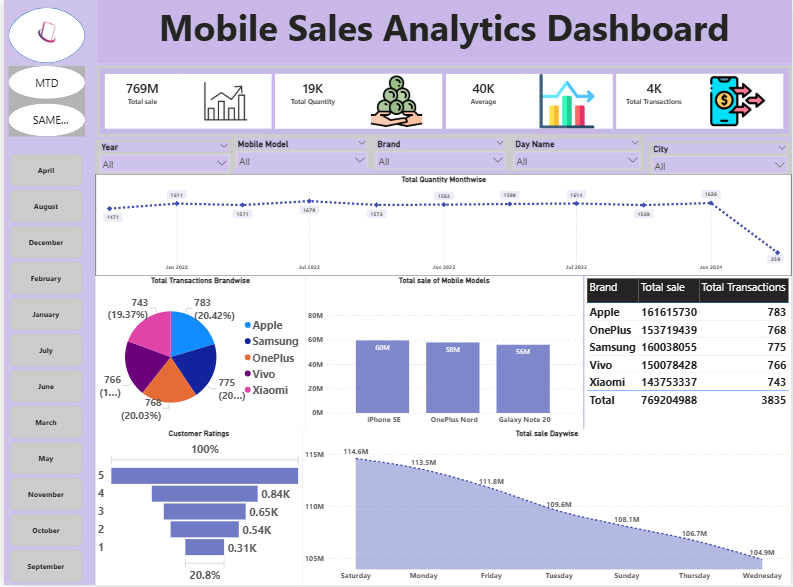

This screenshot's page, from the dashboard's own definition file:
{"tool":"powerbi","page":{"name":"Page 1","canvas":[1750,1100],"ordinal":0},"visuals":[{"type":"shape","box":[10,16.7,170,123.3],"z":0},{"type":"advancedSlicerVisual","fields":{"Values":["Custom_calender.Month Name"]},"box":[6.7,336.7,173.3,763.3],"z":1000},{"type":"cardVisual","fields":{"Data":["sales data.Total sale","sales data.Total Quantity","sales data.Average","sales data.Total Transactions"]},"box":[206.7,0,1543.3,110],"z":2000},{"type":"lineChart","title":"Total Quantity Monthwise","fields":{"Category":["Custom_calender.Dates.Variation.Date Hierarchy.Year","Custom_calender.Dates.Variation.Date Hierarchy.Quarter","Custom_calender.Dates.Variation.Date Hierarchy.Month","Custom_calender.Dates.Variation.Date Hierarchy.Day"],"Y":["sales data.Total Quantity"]},"box":[203.3,190,1546.7,226.7],"z":3000},{"type":"pieChart","title":"Total Transactions Brandwise","fields":{"Y":["sales data.Total Transactions"],"Category":["sales data.Brand"]},"box":[206.7,413.3,466.7,340],"z":4000},{"type":"columnChart","title":"Total sale of Mobile Models","fields":{"Y":["sales data.Total sale"],"Category":["sales data.Mobile Model"]},"box":[673.3,416.7,616.7,340],"z":5000},{"type":"tableEx","fields":{"Values":["sales data.Brand","sales data.Total sale","sales data.Total Transactions"]},"box":[1290,413.3,460,340],"z":6000},{"type":"areaChart","title":"Total sale Daywise","fields":{"Y":["sales data.Total sale"],"Category":["sales data.Day Name"]},"box":[670,753.3,1080,346.7],"z":7000},{"type":"funnel","title":"Customer Ratings","fields":{"Category":["sales data.Customer Ratings"],"Y":["CountNonNull(sales data.Customer Ratings)"]},"box":[213.3,753.3,460,346.7],"z":8000},{"type":"slicer","fields":{"Values":["sales data.Mobile Model"]},"box":[516.7,113.3,310,70],"z":9000},{"type":"slicer","fields":{"Values":["sales data.Brand"]},"box":[826.7,103.3,306.7,73.3],"z":10000},{"type":"slicer","fields":{"Values":["sales data.Day Name"]},"box":[1130,106.7,300,76.7],"z":11000},{"type":"slicer","fields":{"Values":["sales data.City"]},"box":[1430,103.3,320,73.3],"z":12000},{"type":"image","box":[33.3,30,123.3,83.3],"z":13000},{"type":"slicer","fields":{"Values":["Custom_calender.Year"]},"box":[206.7,113.3,306.7,76.7],"z":14000},{"type":"pageNavigator","box":[10,146.7,170,156.7],"z":15000}]}

Visuals, with their boxes on the page's 1750x1100 design canvas (x1, y1, x2, y2). These are canvas units, not pixel positions in the 793x587 screenshot, which may show the page scaled, cropped or inside an application window:
shape: 10 17 180 140
advancedSlicerVisual - Custom_calender.Month Name: 7 337 180 1100
cardVisual - sales data.Total sale x sales data.Total Quantity: 207 0 1750 110
"Total Quantity Monthwise" lineChart: 203 190 1750 417
"Total Transactions Brandwise" pieChart: 207 413 673 753
"Total sale of Mobile Models" columnChart: 673 417 1290 757
tableEx - sales data.Brand x sales data.Total sale: 1290 413 1750 753
"Total sale Daywise" areaChart: 670 753 1750 1100
"Customer Ratings" funnel: 213 753 673 1100
slicer - sales data.Mobile Model: 517 113 827 183
slicer - sales data.Brand: 827 103 1133 177
slicer - sales data.Day Name: 1130 107 1430 183
slicer - sales data.City: 1430 103 1750 177
image: 33 30 157 113
slicer - Custom_calender.Year: 207 113 513 190
pageNavigator: 10 147 180 303
